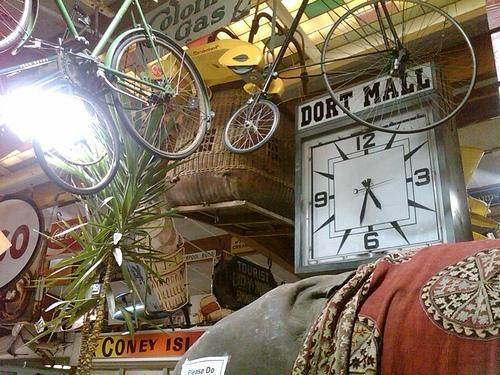bicycle: (228, 5, 476, 149), (0, 1, 210, 158), (1, 35, 126, 197)
